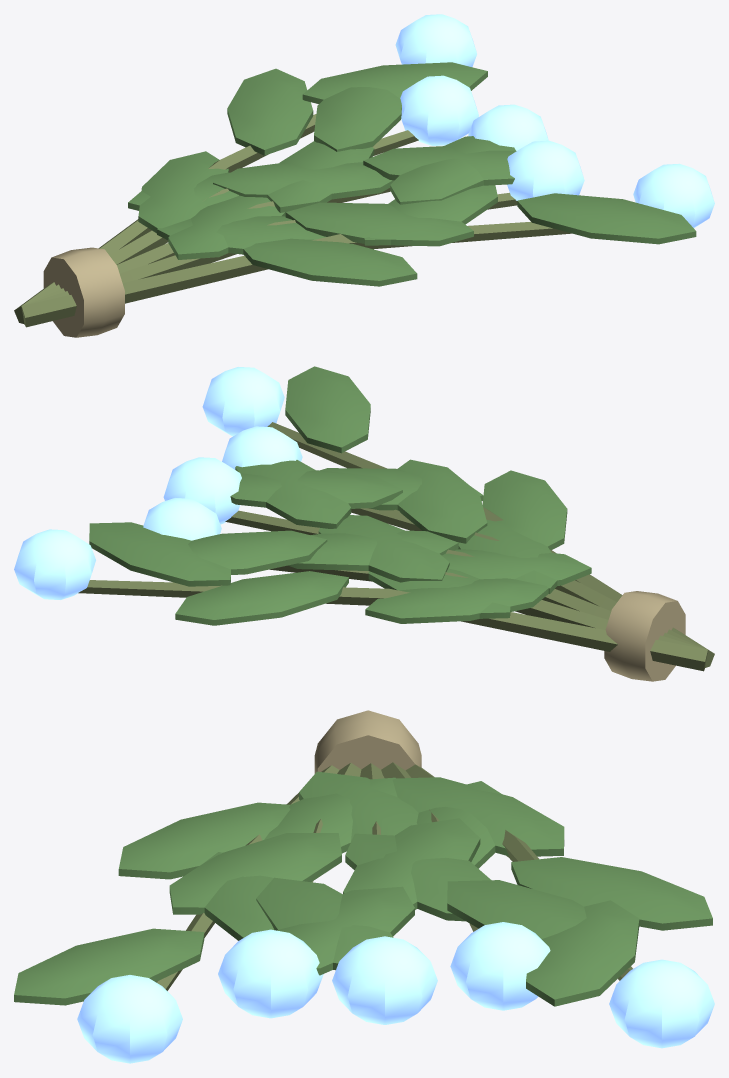
Rendered from mirebloom.glb.
3 views of the same model, one above another, from view 1: azimuth 30°, elevation 25°; view 2: azimuth 150°, elevation 25°; view 3: azimuth 270°, elevation 25° (orthographic). The views are drawn at different scales.
Visible parts, largest first — view 1: mirebloom; view 2: mirebloom; view 3: mirebloom.
Boxes of the visible parts, x1,y1,x2,y2 form: mirebloom: (14,14,714,337); mirebloom: (14,366,714,681); mirebloom: (14,710,714,1063).
Size of the model in its own units: 0.1463 by 0.0267 by 0.1191.
